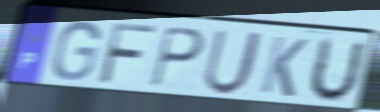F: (95, 20, 160, 88)
G: (49, 19, 103, 83)
K: (257, 33, 310, 100)
P: (148, 25, 207, 90)
U: (200, 28, 266, 98), (304, 35, 368, 105)
